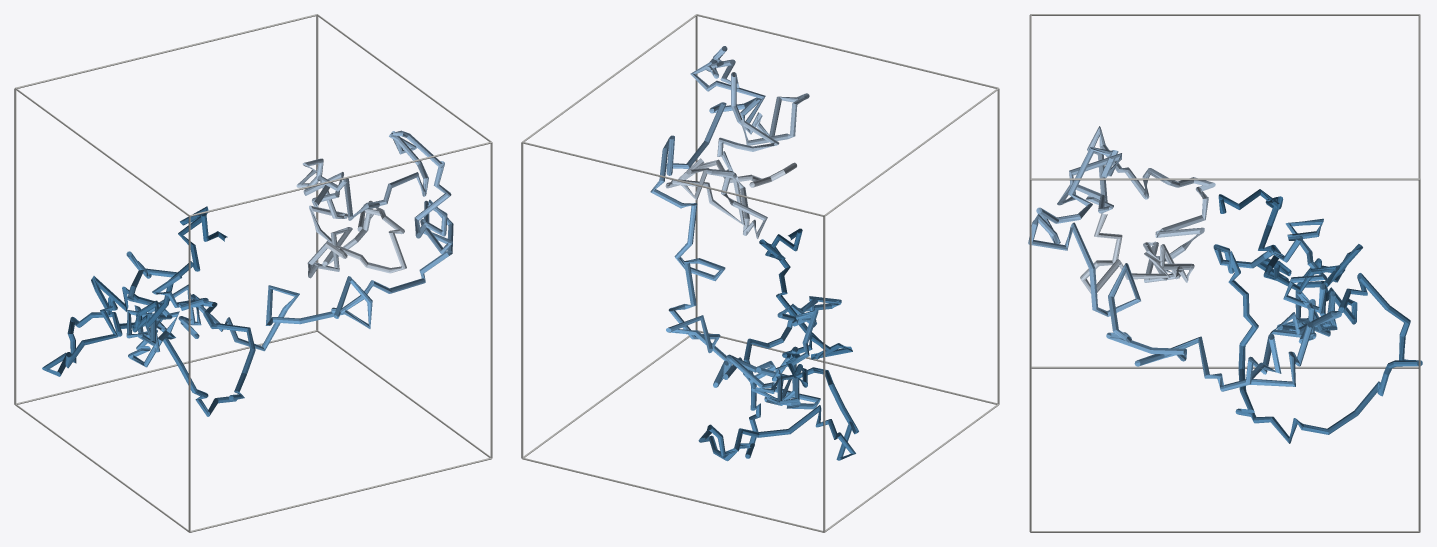
3 views of the same model, side by side, from view 1: azimuth 30°, elevation 25°; view 2: azimuth 150°, elevation 25°; view 3: azimuth 270°, elevation 25° (orthographic). The views are drawn at different scales.
Parts seen in each view (by area): view 1: geometry_0, geometry_1; view 2: geometry_0, geometry_1; view 3: geometry_0, geometry_1.
Part boxes in pixels (bbox=[...]): geometry_0: bbox=[42, 130, 453, 416]; geometry_1: bbox=[14, 14, 492, 532]; geometry_0: bbox=[650, 46, 858, 461]; geometry_1: bbox=[521, 14, 999, 532]; geometry_0: bbox=[1028, 126, 1422, 443]; geometry_1: bbox=[1029, 14, 1420, 532].
Size of the model in its own units: 0.3037 by 0.3044 by 0.3042.
